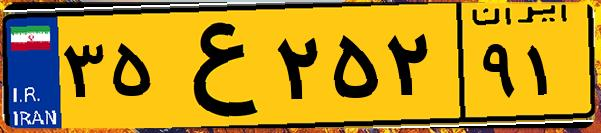1: (525, 38, 570, 115)
2: (270, 28, 330, 110), (385, 28, 445, 110)
3: (57, 26, 110, 100)
5: (330, 28, 385, 110), (110, 28, 158, 98)
9: (475, 38, 525, 113)
ع: (158, 12, 270, 120)
